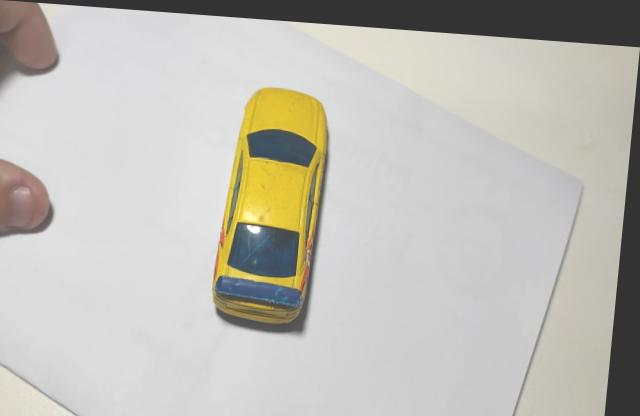02_OZSOME: (216, 84, 331, 330)
